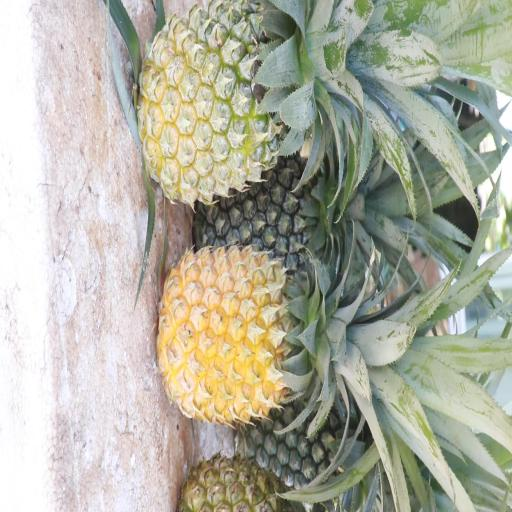------------------------------: (144, 6, 322, 196)
Pineapple - v8 v1: (158, 247, 336, 423)
